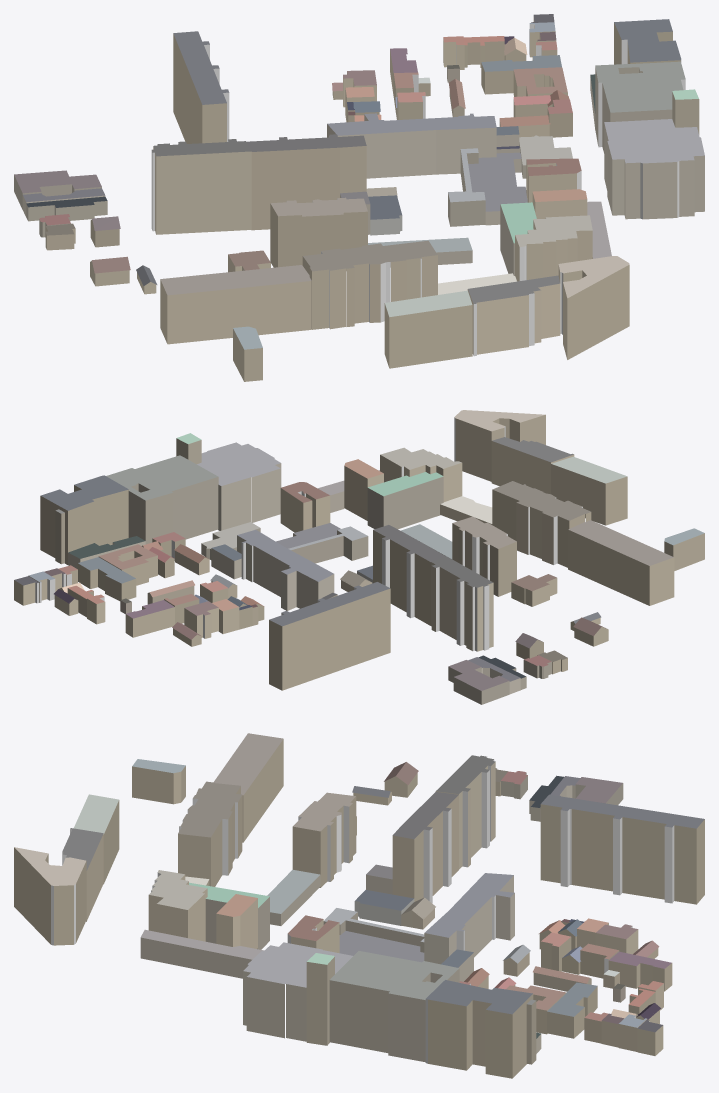
The picture shows the model from 3 angles, top to bottom: view 1: azimuth 30°, elevation 25°; view 2: azimuth 150°, elevation 25°; view 3: azimuth 270°, elevation 25°; orthographic projection. The views are drawn at different scales.
Parts seen in each view (by area): view 1: tuile; view 2: tuile; view 3: tuile.
Part boxes in pixels (<box>): tuile: <box>14,14,704,381</box>; tuile: <box>14,410,704,704</box>; tuile: <box>14,733,704,1078</box>.
Size of the model in its own units: 269 by 35.22 by 261.
